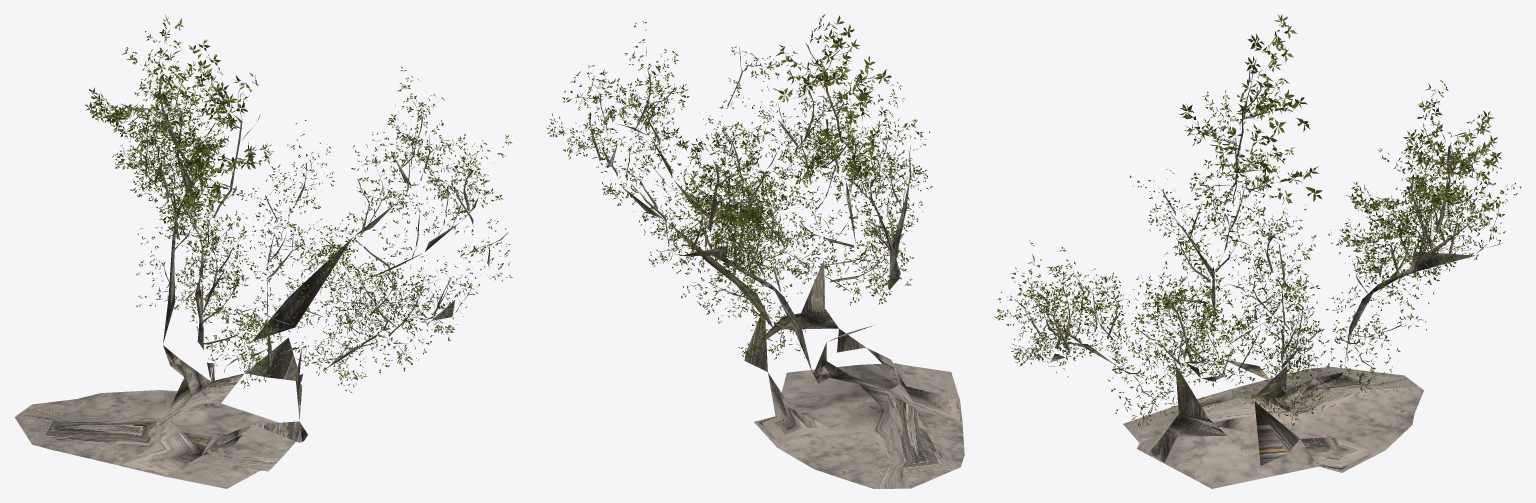
File: island_tree_03.glb
The picture shows the model from 3 angles, left to right: view 1: azimuth 30°, elevation 25°; view 2: azimuth 150°, elevation 25°; view 3: azimuth 270°, elevation 25°; orthographic projection. The views are drawn at different scales.
Parts seen in each view (by area): view 1: island_tree_03_LOD0; view 2: island_tree_03_LOD0; view 3: island_tree_03_LOD0.
Part boxes in pixels (x1,y1,x2,y2): island_tree_03_LOD0: (14,15,512,488); island_tree_03_LOD0: (546,14,964,488); island_tree_03_LOD0: (994,14,1520,488).
Bounding box in the file's own units: 2.94 × 2.61 × 2.9.
Materials: 3 (3 with a texture image).
